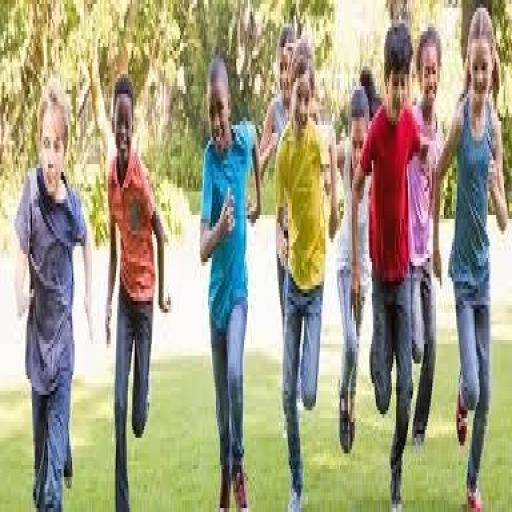running: (350, 20, 434, 508), (432, 4, 509, 508), (12, 74, 96, 508), (272, 43, 341, 508), (103, 70, 173, 508), (197, 51, 264, 508)
